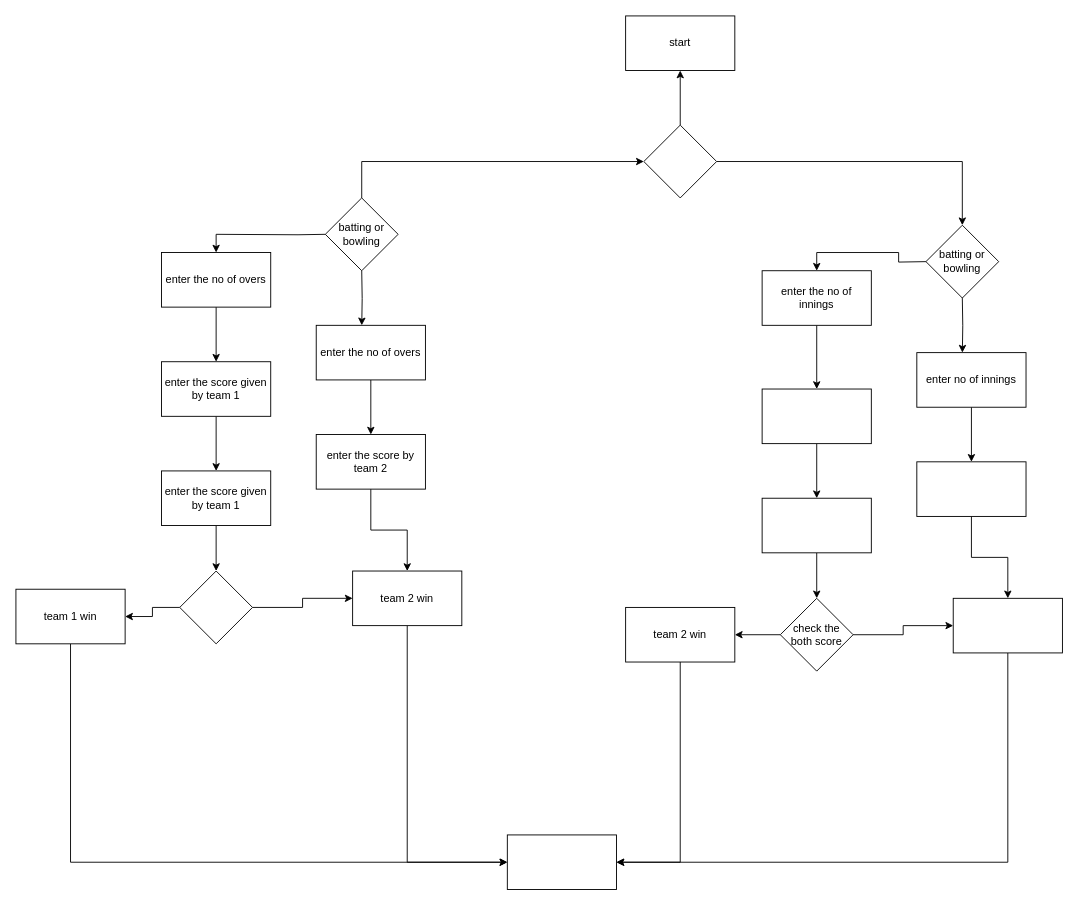
This 1078x905 diagram has some shape labels left out. The shapes that lost their labels are listed below. From the top down, each one's box as (x1, y1, x2, y2) in pixels, then its label:
(643, 124, 717, 198): toss won or loss
(761, 388, 871, 444): enter the score given by team 2
(916, 461, 1026, 516): enter the score by team 1
(761, 497, 871, 553): enter the score scored by team 2
(179, 570, 253, 644): check the both scores
(952, 597, 1062, 653): team1 win
(506, 834, 617, 890): stop
